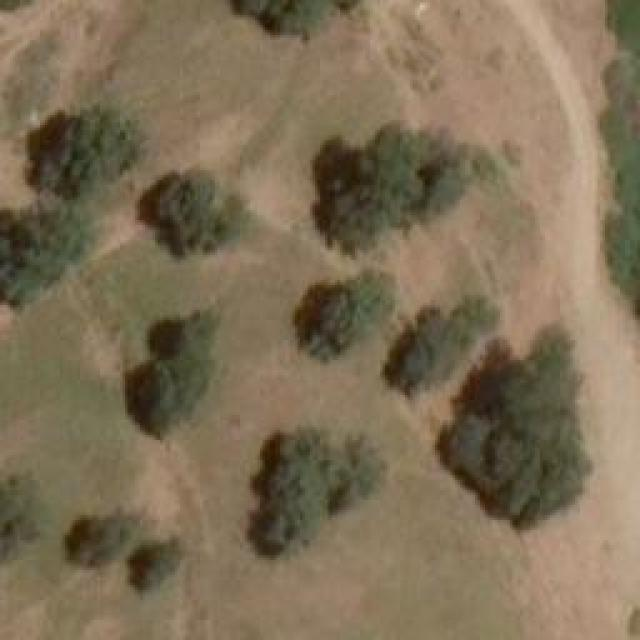Tree: (445, 323, 580, 516), (315, 128, 458, 251), (242, 427, 370, 545), (388, 293, 493, 406), (23, 108, 136, 201), (155, 170, 238, 253), (303, 283, 378, 363), (0, 210, 60, 298), (145, 315, 213, 378), (125, 375, 188, 440), (0, 471, 41, 559), (73, 510, 133, 565), (130, 535, 183, 588)
